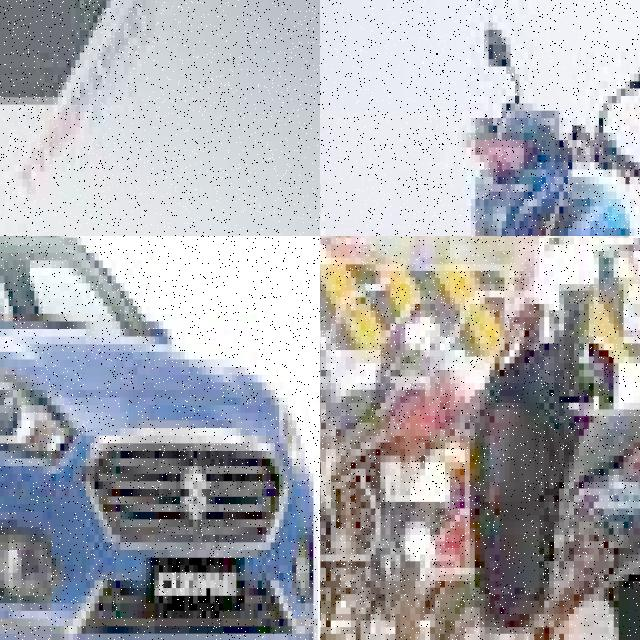bike: (474, 236, 640, 640), (320, 310, 455, 640), (386, 96, 640, 236), (0, 171, 261, 236)
car: (0, 236, 318, 640)
